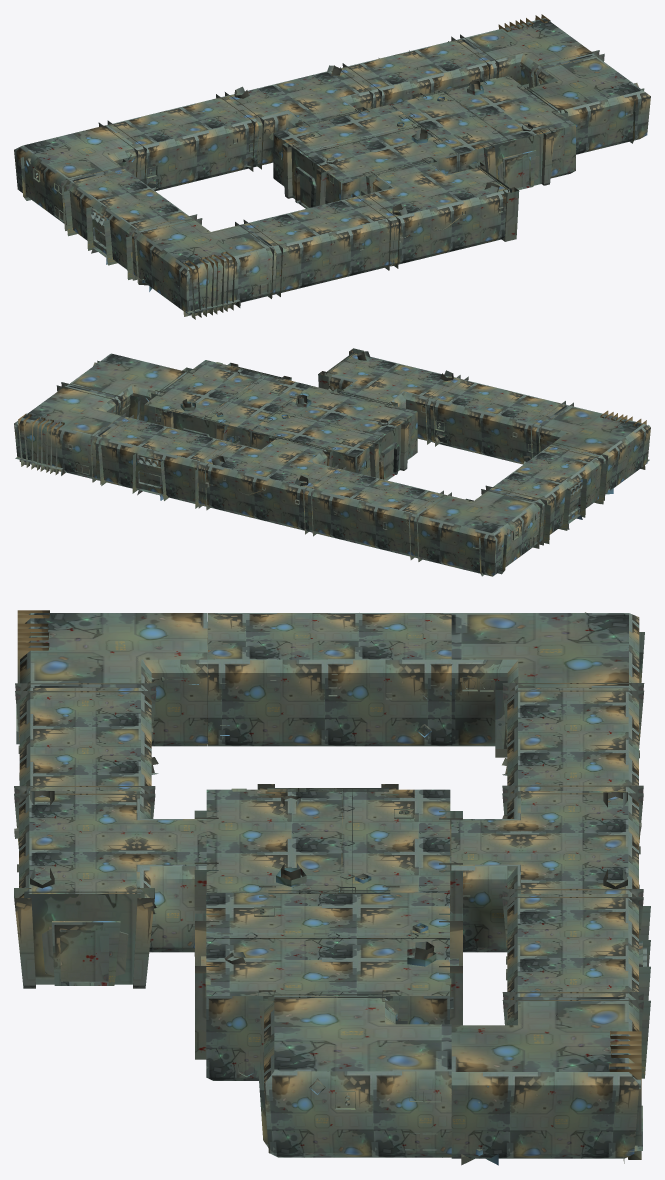
The model's file is Combined_Mesh_root_scene__5_130fafea__zombies2_diffuse_02_6de118bf_c1f257.obj.
The picture shows the model from 3 angles, top to bottom: view 1: azimuth 30°, elevation 25°; view 2: azimuth 150°, elevation 25°; view 3: azimuth 270°, elevation 25°; orthographic projection. The views are drawn at different scales.
Size of the model in its own units: 92.31 by 9.64 by 52.29.
Materials: 179 (179 with a texture image).
